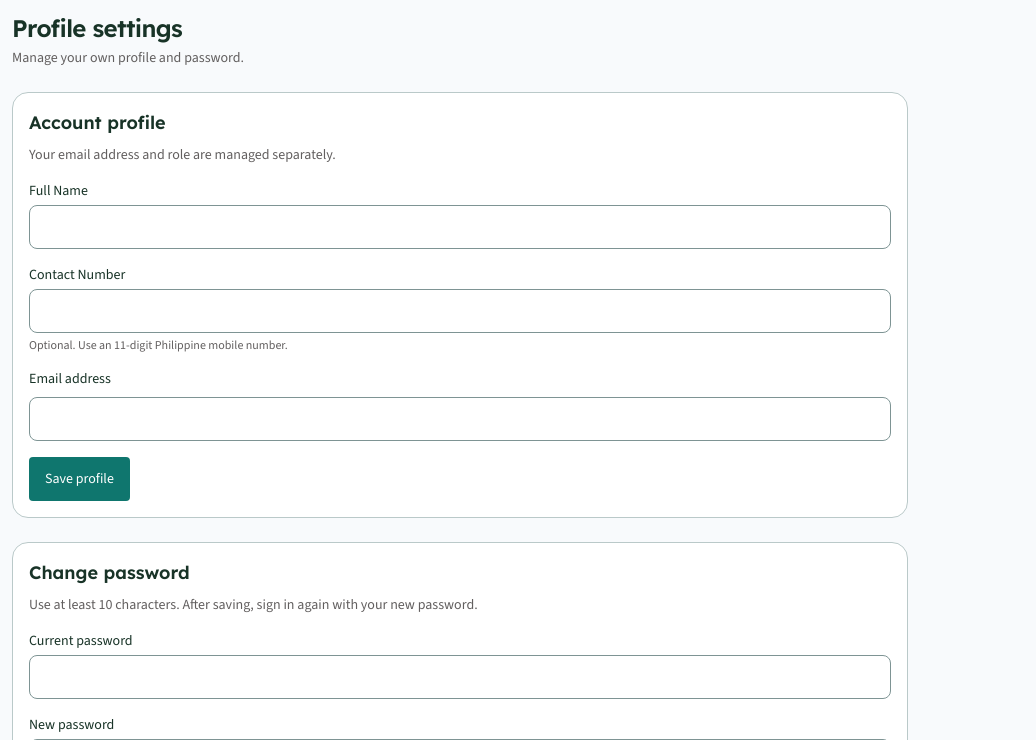
Test: DonorSettingsPage › requires a name before saving
Click the button "Save profile": point(79, 479) top-left (29, 457), bottom-right (130, 501)
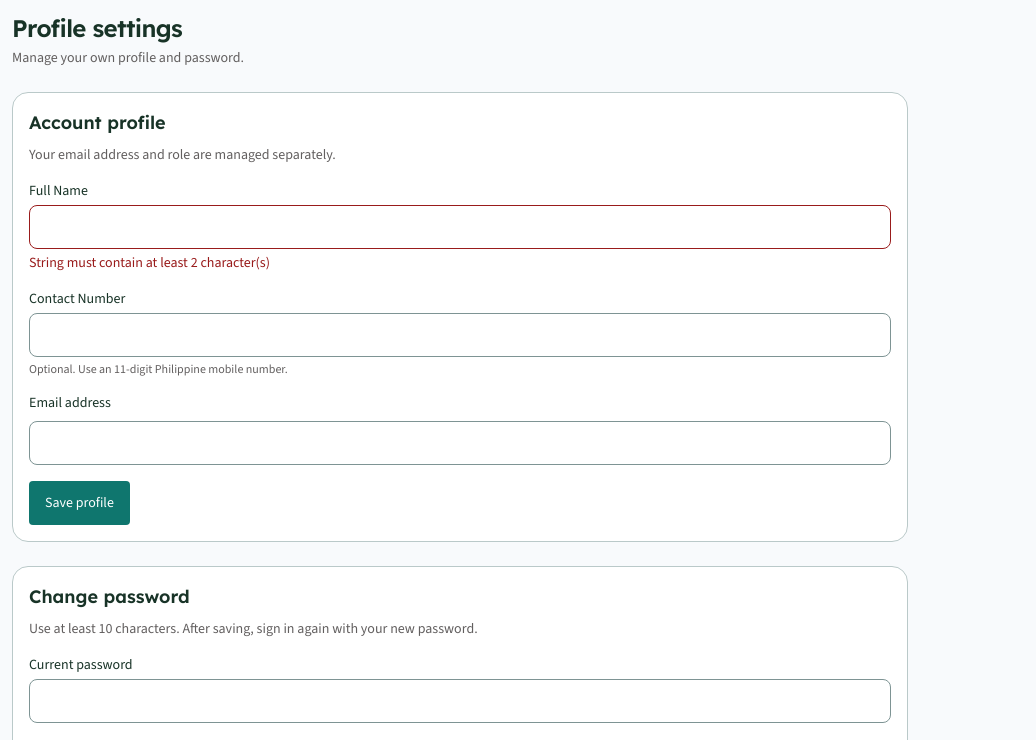
Now the text "String must contain at least 2 character(s)" is shown, box top-left (29, 253), bottom-right (270, 272)
